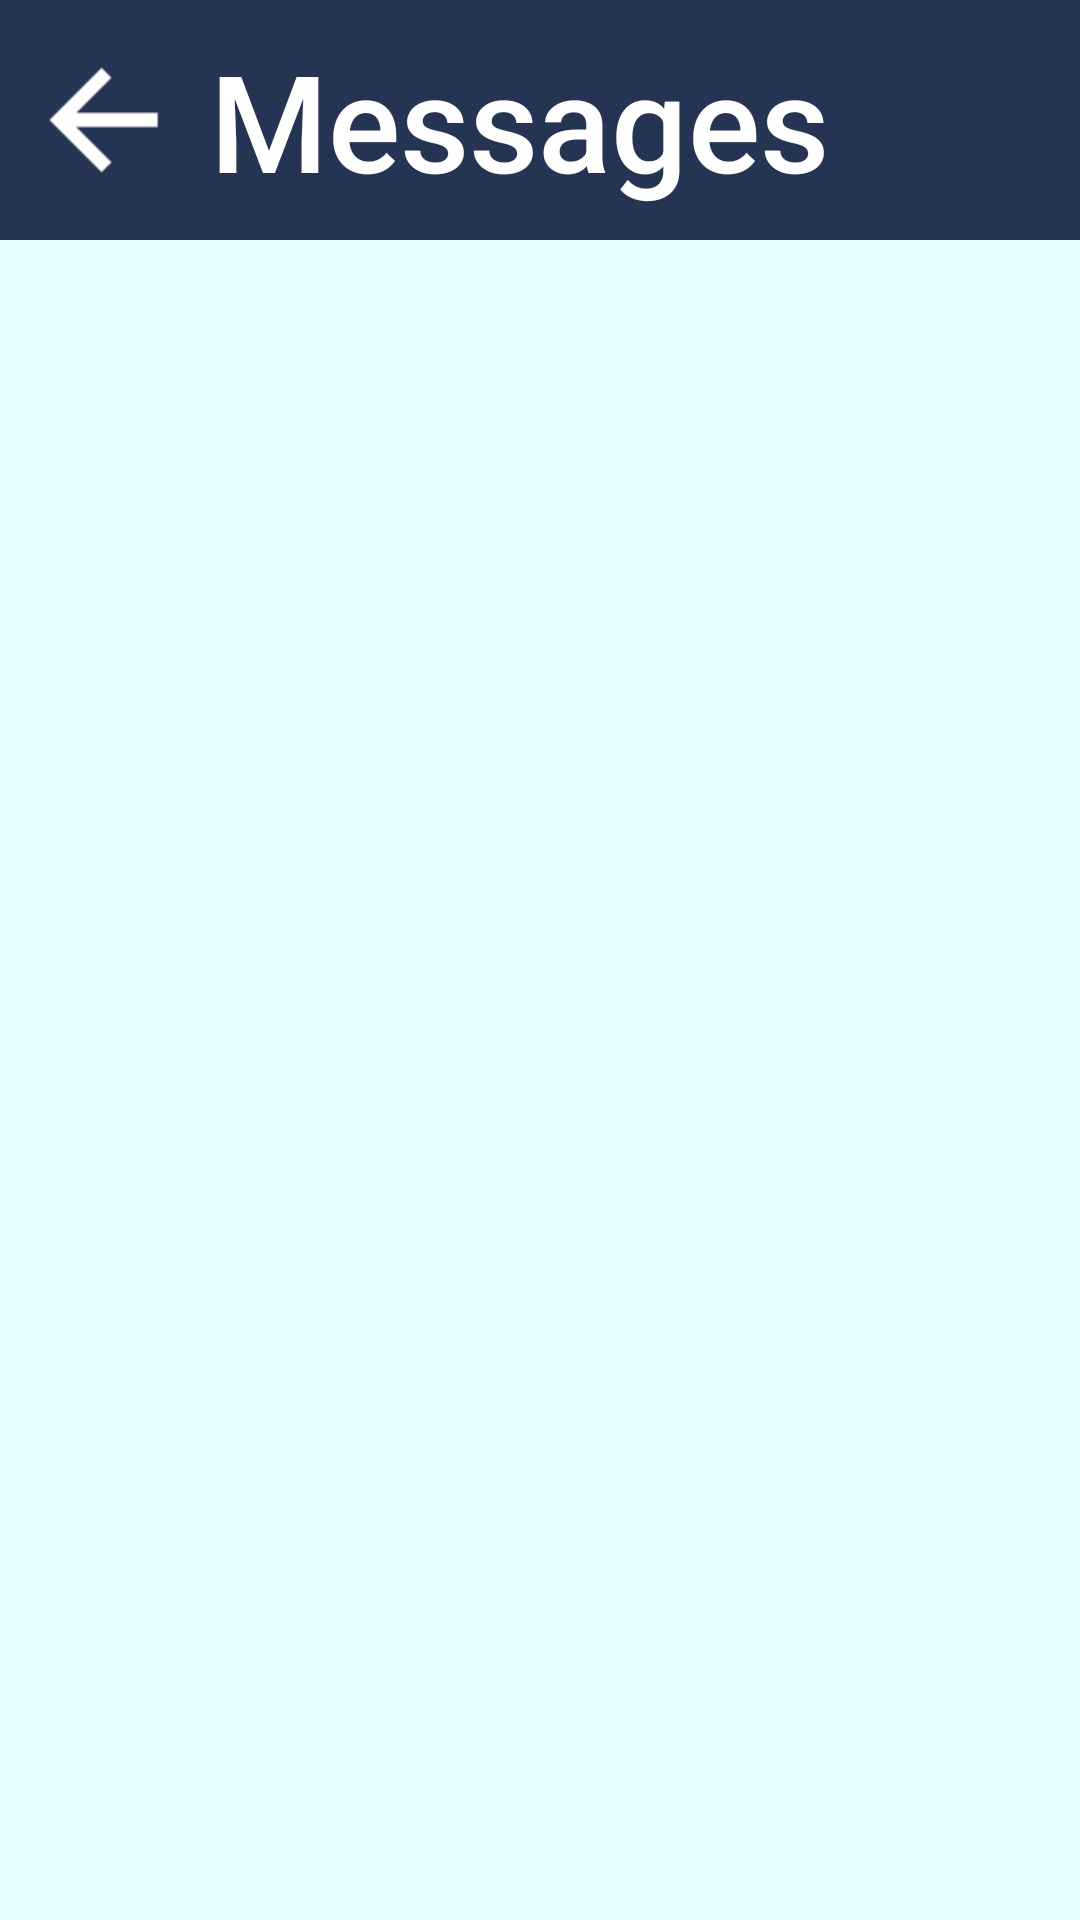

Icon click points for this 1080×1920 phone screenshot, format (x=x, y=y):
back arrow: (x=103, y=120)
